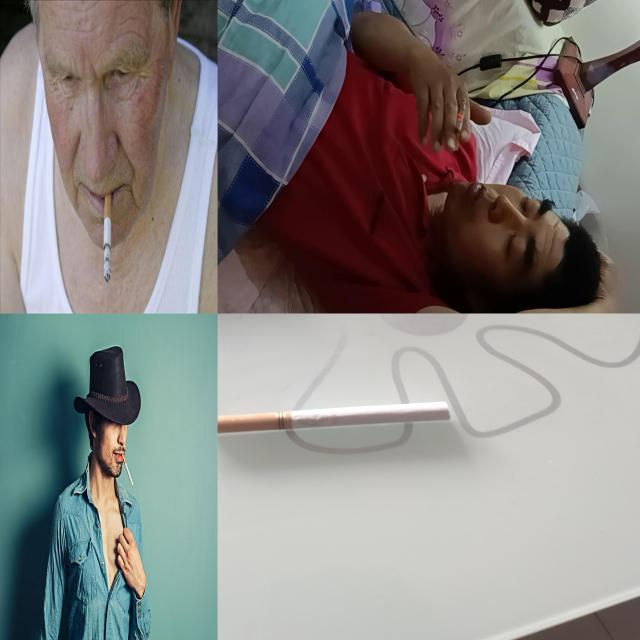cigarette: (218, 402, 452, 434), (103, 187, 113, 283), (453, 98, 466, 151), (121, 453, 134, 488)
